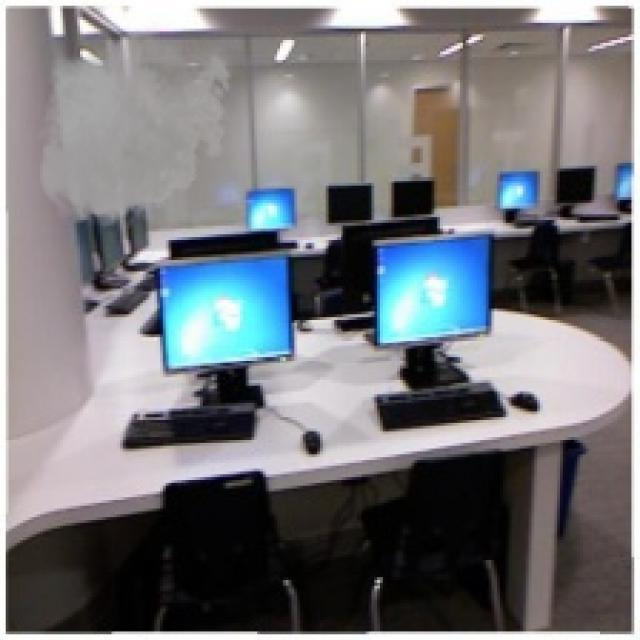Smoke: (31, 20, 238, 234)
